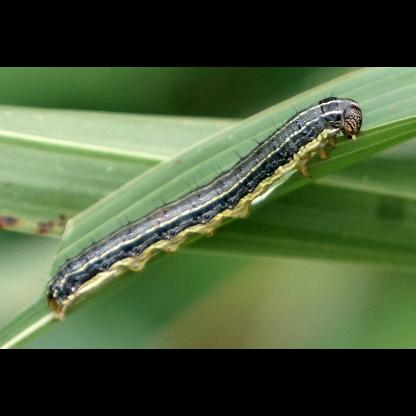Fall Armyworm Larvae: (38, 89, 372, 324)
